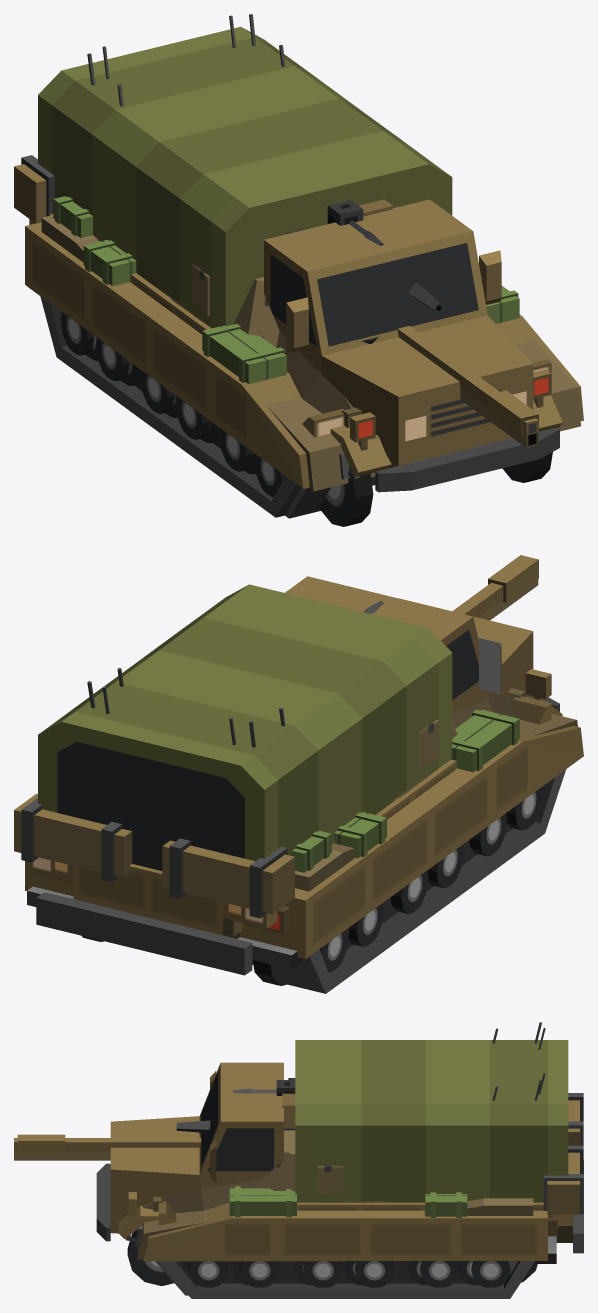
The model's file is vehicles.gltf.
The picture shows the model from 3 angles, top to bottom: view 1: azimuth 30°, elevation 25°; view 2: azimuth 150°, elevation 25°; view 3: azimuth 270°, elevation 25°; orthographic projection. The views are drawn at different scales.
Visible parts, largest first — view 1: SK_Veh_Truck_Troop_02, SK_Veh_tank_02, SK_Veh_Tank_01, SK_Veh_tank_02_Barrel_01, SK_Veh_Apc_01, Wheel_fr.008, SK_Veh_Troop_Car_Gun_01, Wheel_fl.008, SK_Veh_Tank_01_Barrel_01; view 2: SK_Veh_Truck_Troop_02, SK_Veh_tank_02, SK_Veh_Tank_01, SK_Veh_tank_02_Barrel_01, SK_Veh_Apc_01, Wheel_rr2.005; view 3: SK_Veh_Truck_Troop_02, SK_Veh_tank_02, SK_Veh_Tank_01, SK_Veh_tank_02_Barrel_01, SK_Veh_Apc_01, Wheel_fl.008, SK_Veh_Troop_Car_Gun_01, SK_Veh_Tank_01_Barrel_01, SK_Veh_Apc_01_Barrel_01.
Part boxes in pixels (x1,y1,x2,y2): SK_Veh_Truck_Troop_02: (29,26,562,492); SK_Veh_tank_02: (14,155,583,517); SK_Veh_Tank_01: (41,14,580,518); SK_Veh_tank_02_Barrel_01: (397,325,538,437); SK_Veh_Apc_01: (102,15,378,439); Wheel_fr.008: (319,466,373,526); SK_Veh_Troop_Car_Gun_01: (327,199,392,245); Wheel_fl.008: (502,452,552,482); SK_Veh_Tank_01_Barrel_01: (460,388,538,447); SK_Veh_Truck_Troop_02: (29,576,562,975); SK_Veh_tank_02: (14,696,583,993); SK_Veh_Tank_01: (87,681,577,940); SK_Veh_tank_02_Barrel_01: (452,555,538,617); SK_Veh_Apc_01: (102,686,513,745); Wheel_rr2.005: (252,960,289,985); SK_Veh_Truck_Troop_02: (96,1040,583,1253); SK_Veh_tank_02: (143,1093,583,1298); SK_Veh_Tank_01: (125,1022,541,1295); SK_Veh_tank_02_Barrel_01: (14,1134,201,1155); SK_Veh_Apc_01: (143,1027,545,1212); Wheel_fl.008: (127,1231,173,1286); SK_Veh_Troop_Car_Gun_01: (233,1080,295,1127); SK_Veh_Tank_01_Barrel_01: (14,1152,110,1160); SK_Veh_Apc_01_Barrel_01: (176,1120,295,1132).
Bounding box in the file's own units: 5.25 × 4.91 × 12.65.
Materials: 1 (1 with a texture image).
